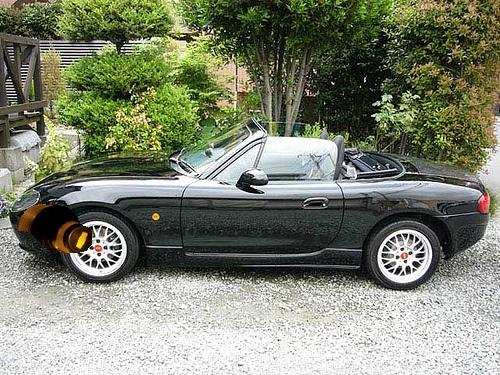tampered: (17, 205, 92, 253)
